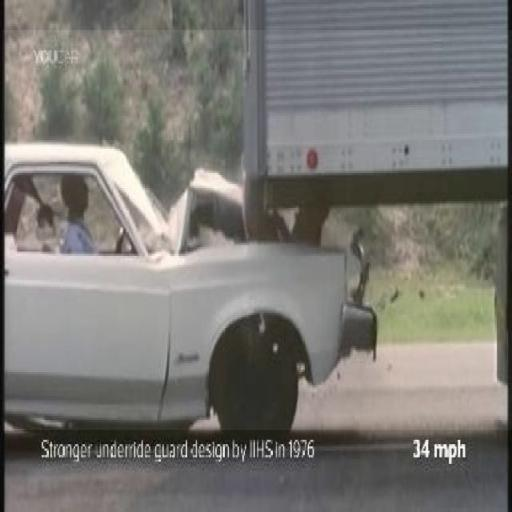小汽车撞小汽车: (2, 30, 512, 430)
